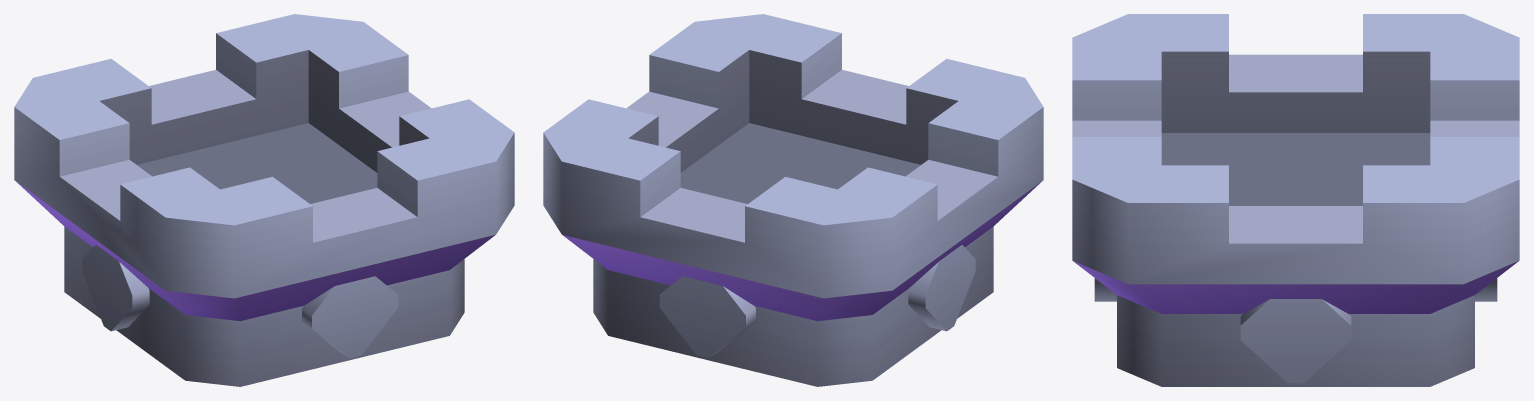
The model's file is tower-square-top-c.glb.
The picture shows the model from 3 angles, left to right: view 1: azimuth 30°, elevation 25°; view 2: azimuth 150°, elevation 25°; view 3: azimuth 270°, elevation 25°; orthographic projection. The views are drawn at different scales.
Visible parts, largest first — view 1: tower-square-top-c; view 2: tower-square-top-c; view 3: tower-square-top-c.
Part boxes in pixels (bbox=[...]): tower-square-top-c: bbox=[14, 14, 514, 386]; tower-square-top-c: bbox=[543, 14, 1043, 386]; tower-square-top-c: bbox=[1072, 14, 1519, 386].
Bounding box in the file's own units: 1 × 0.5001 × 1.
1 material, 1 textured.
